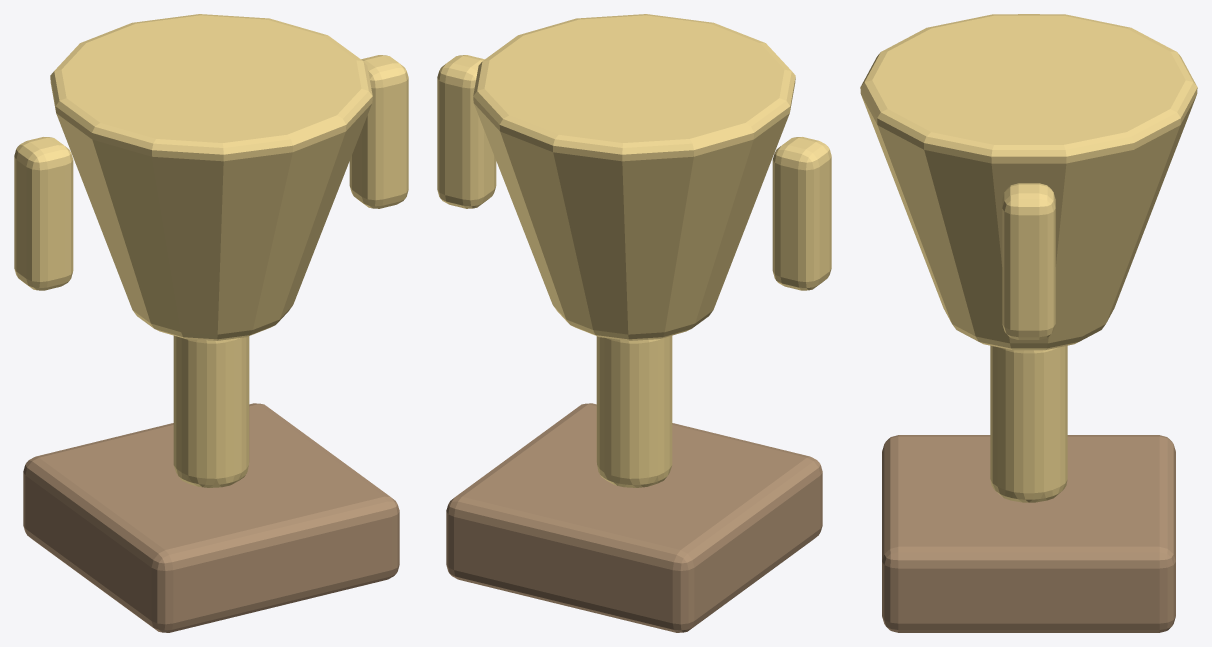
File: Trophy.fbx
The picture shows the model from 3 angles, left to right: view 1: azimuth 30°, elevation 25°; view 2: azimuth 150°, elevation 25°; view 3: azimuth 270°, elevation 25°; orthographic projection. The views are drawn at different scales.
Parts seen in each view (by area): view 1: Trophy; view 2: Trophy; view 3: Trophy.
Boxes of the visible parts, x1,y1,x2,y2 form: Trophy: (14,14,408,632); Trophy: (437,14,831,632); Trophy: (860,14,1197,632).
Bounding box in the file's own units: 0.17 × 0.205 × 0.1263.
